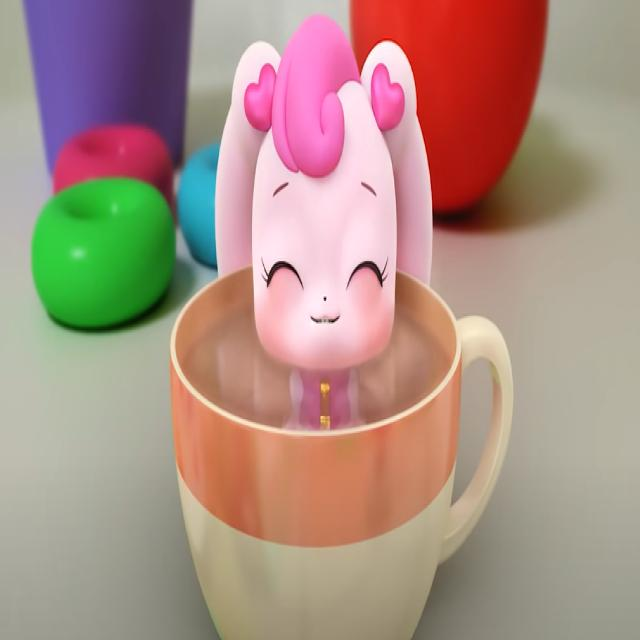Hachuping: (215, 14, 434, 434)
